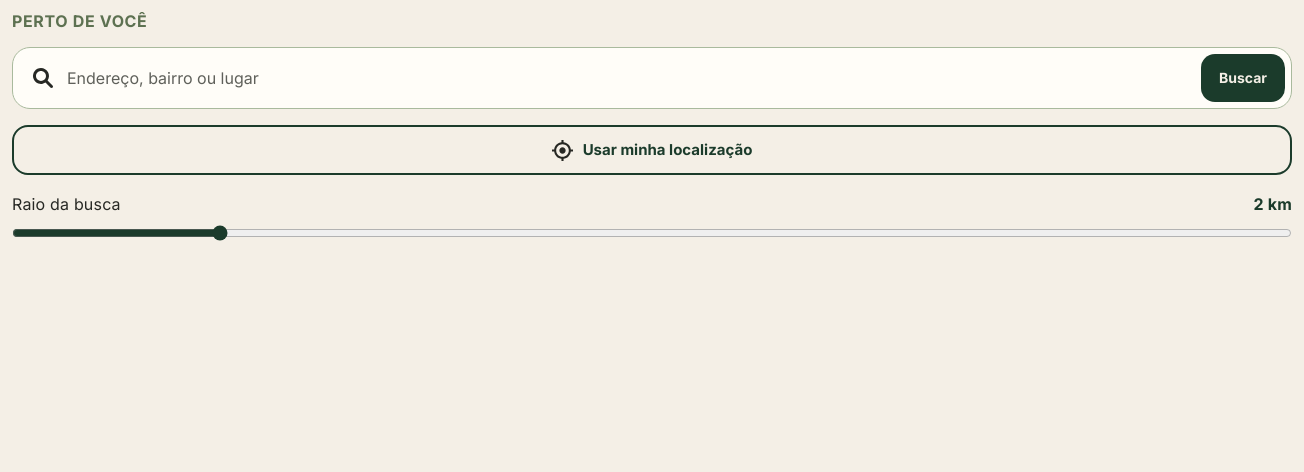
Test: LocationSearchControl › pede para escolher quando há mais de um lugar, mostrando o bairro
Later steps or results of the test are not shown.
In the search field labelled "Endereço, bairro ou lugar": (627, 78) [65,64,1189,92], type "Rua dos Pinheiros"
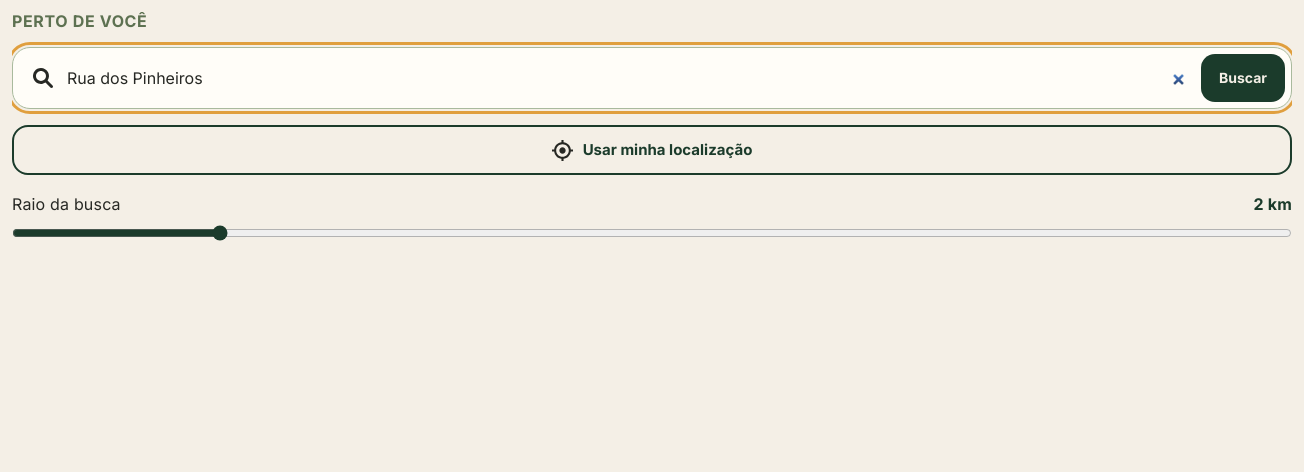
Click the button "Buscar": click(1243, 78) [1201,54,1285,102]
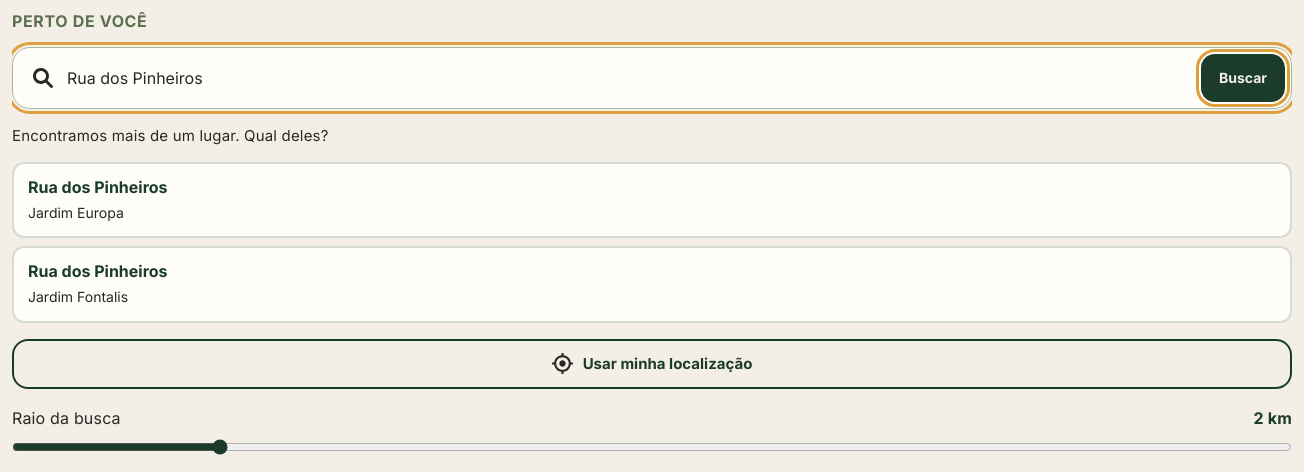
Now the message shows "Encontramos mais de um lugar", box [12,126,328,145]
